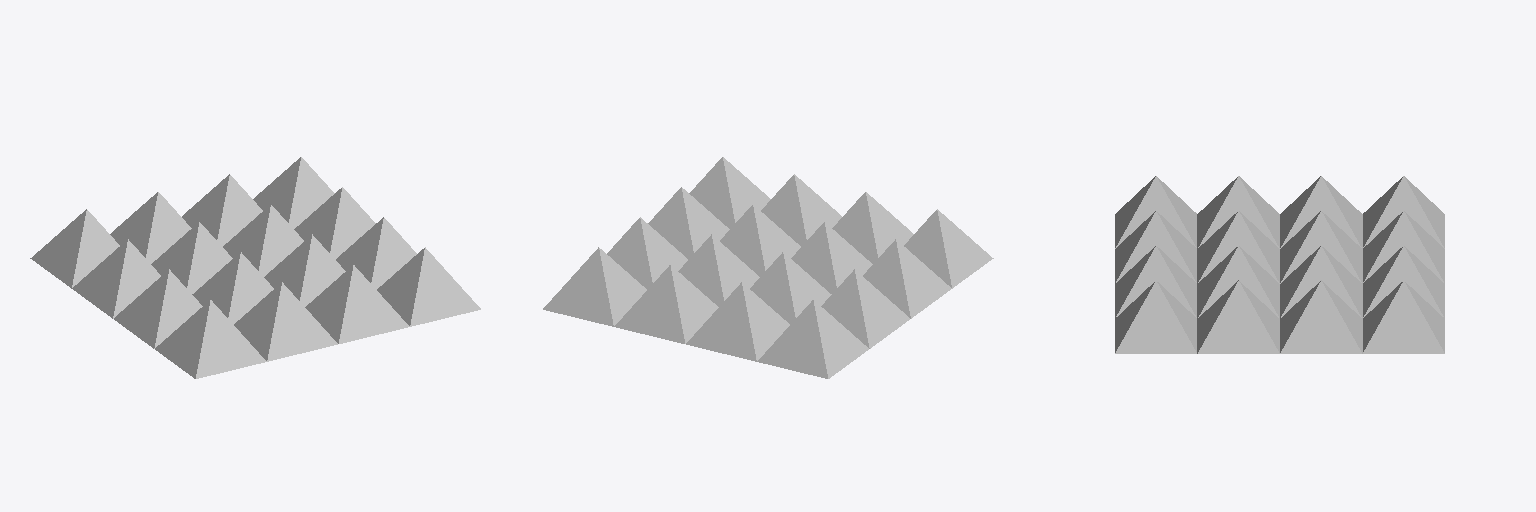
The model's file is Spikes.obj.
3 views of the same model, side by side, from view 1: azimuth 30°, elevation 25°; view 2: azimuth 150°, elevation 25°; view 3: azimuth 270°, elevation 25° (orthographic).
Visible parts, largest first — view 1: Cube.016_Cube.019; view 2: Cube.016_Cube.019; view 3: Cube.016_Cube.019.
Boxes of the visible parts, x1=… form: Cube.016_Cube.019: x1=30, y1=157, x2=480, y2=378; Cube.016_Cube.019: x1=543, y1=157, x2=993, y2=378; Cube.016_Cube.019: x1=1115, y1=176, x2=1444, y2=353.
Size of the model in its own units: 2 by 0.375 by 2.